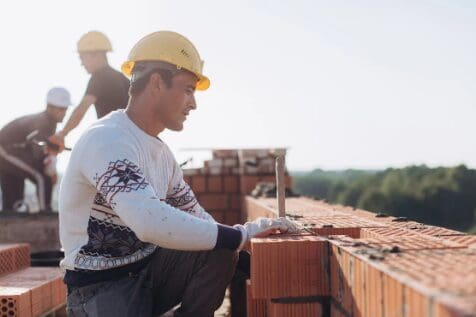Casco de seguridad: (121, 31, 209, 89), (77, 31, 111, 52), (46, 87, 71, 107)
